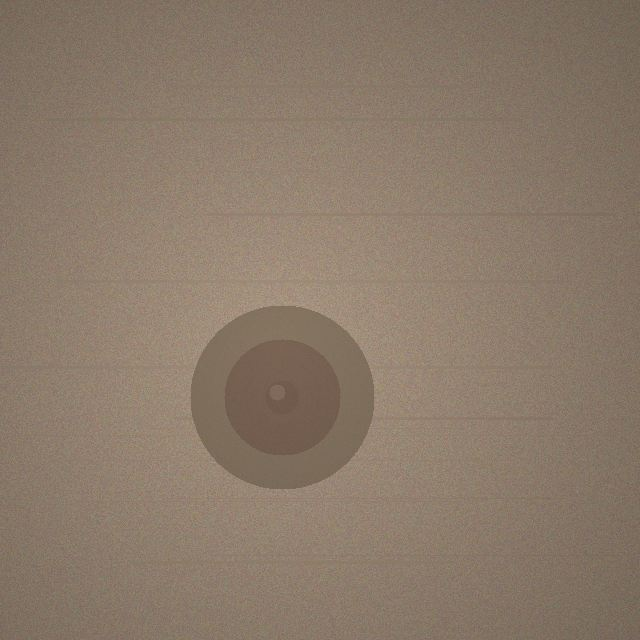good: (190, 305, 374, 489)
